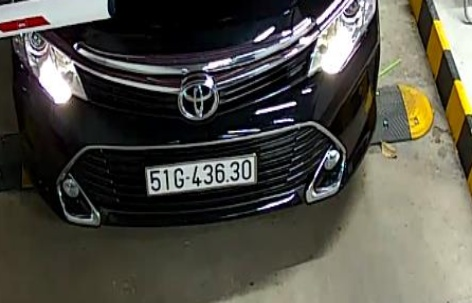plate: (139, 146, 260, 198)
